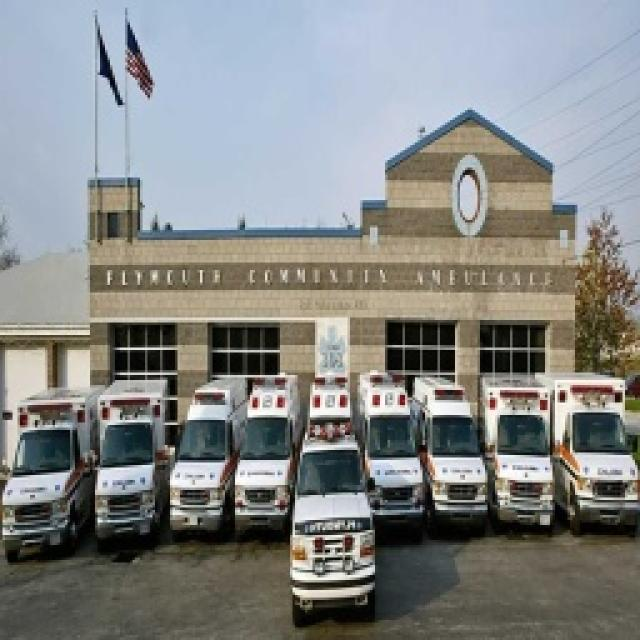emergency-vehicle: (301, 376, 374, 626), (542, 366, 640, 548), (6, 380, 96, 550), (478, 364, 555, 542), (364, 362, 438, 532), (95, 376, 168, 548), (418, 367, 488, 538), (167, 372, 236, 543), (228, 373, 296, 544)
